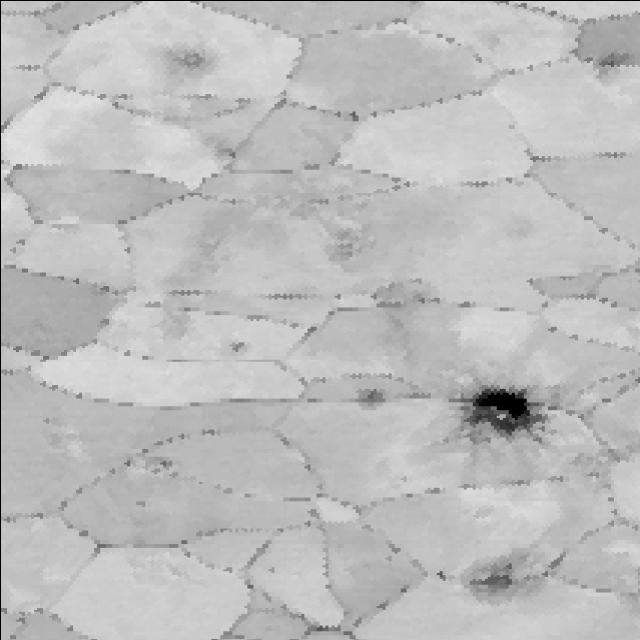good_void: (440, 377, 549, 443), (451, 554, 534, 604), (148, 39, 230, 88), (311, 223, 383, 274), (361, 273, 432, 314), (586, 46, 635, 84), (135, 452, 189, 481), (352, 385, 388, 409), (221, 333, 253, 358), (432, 566, 449, 584), (131, 495, 150, 509), (258, 561, 278, 574)
